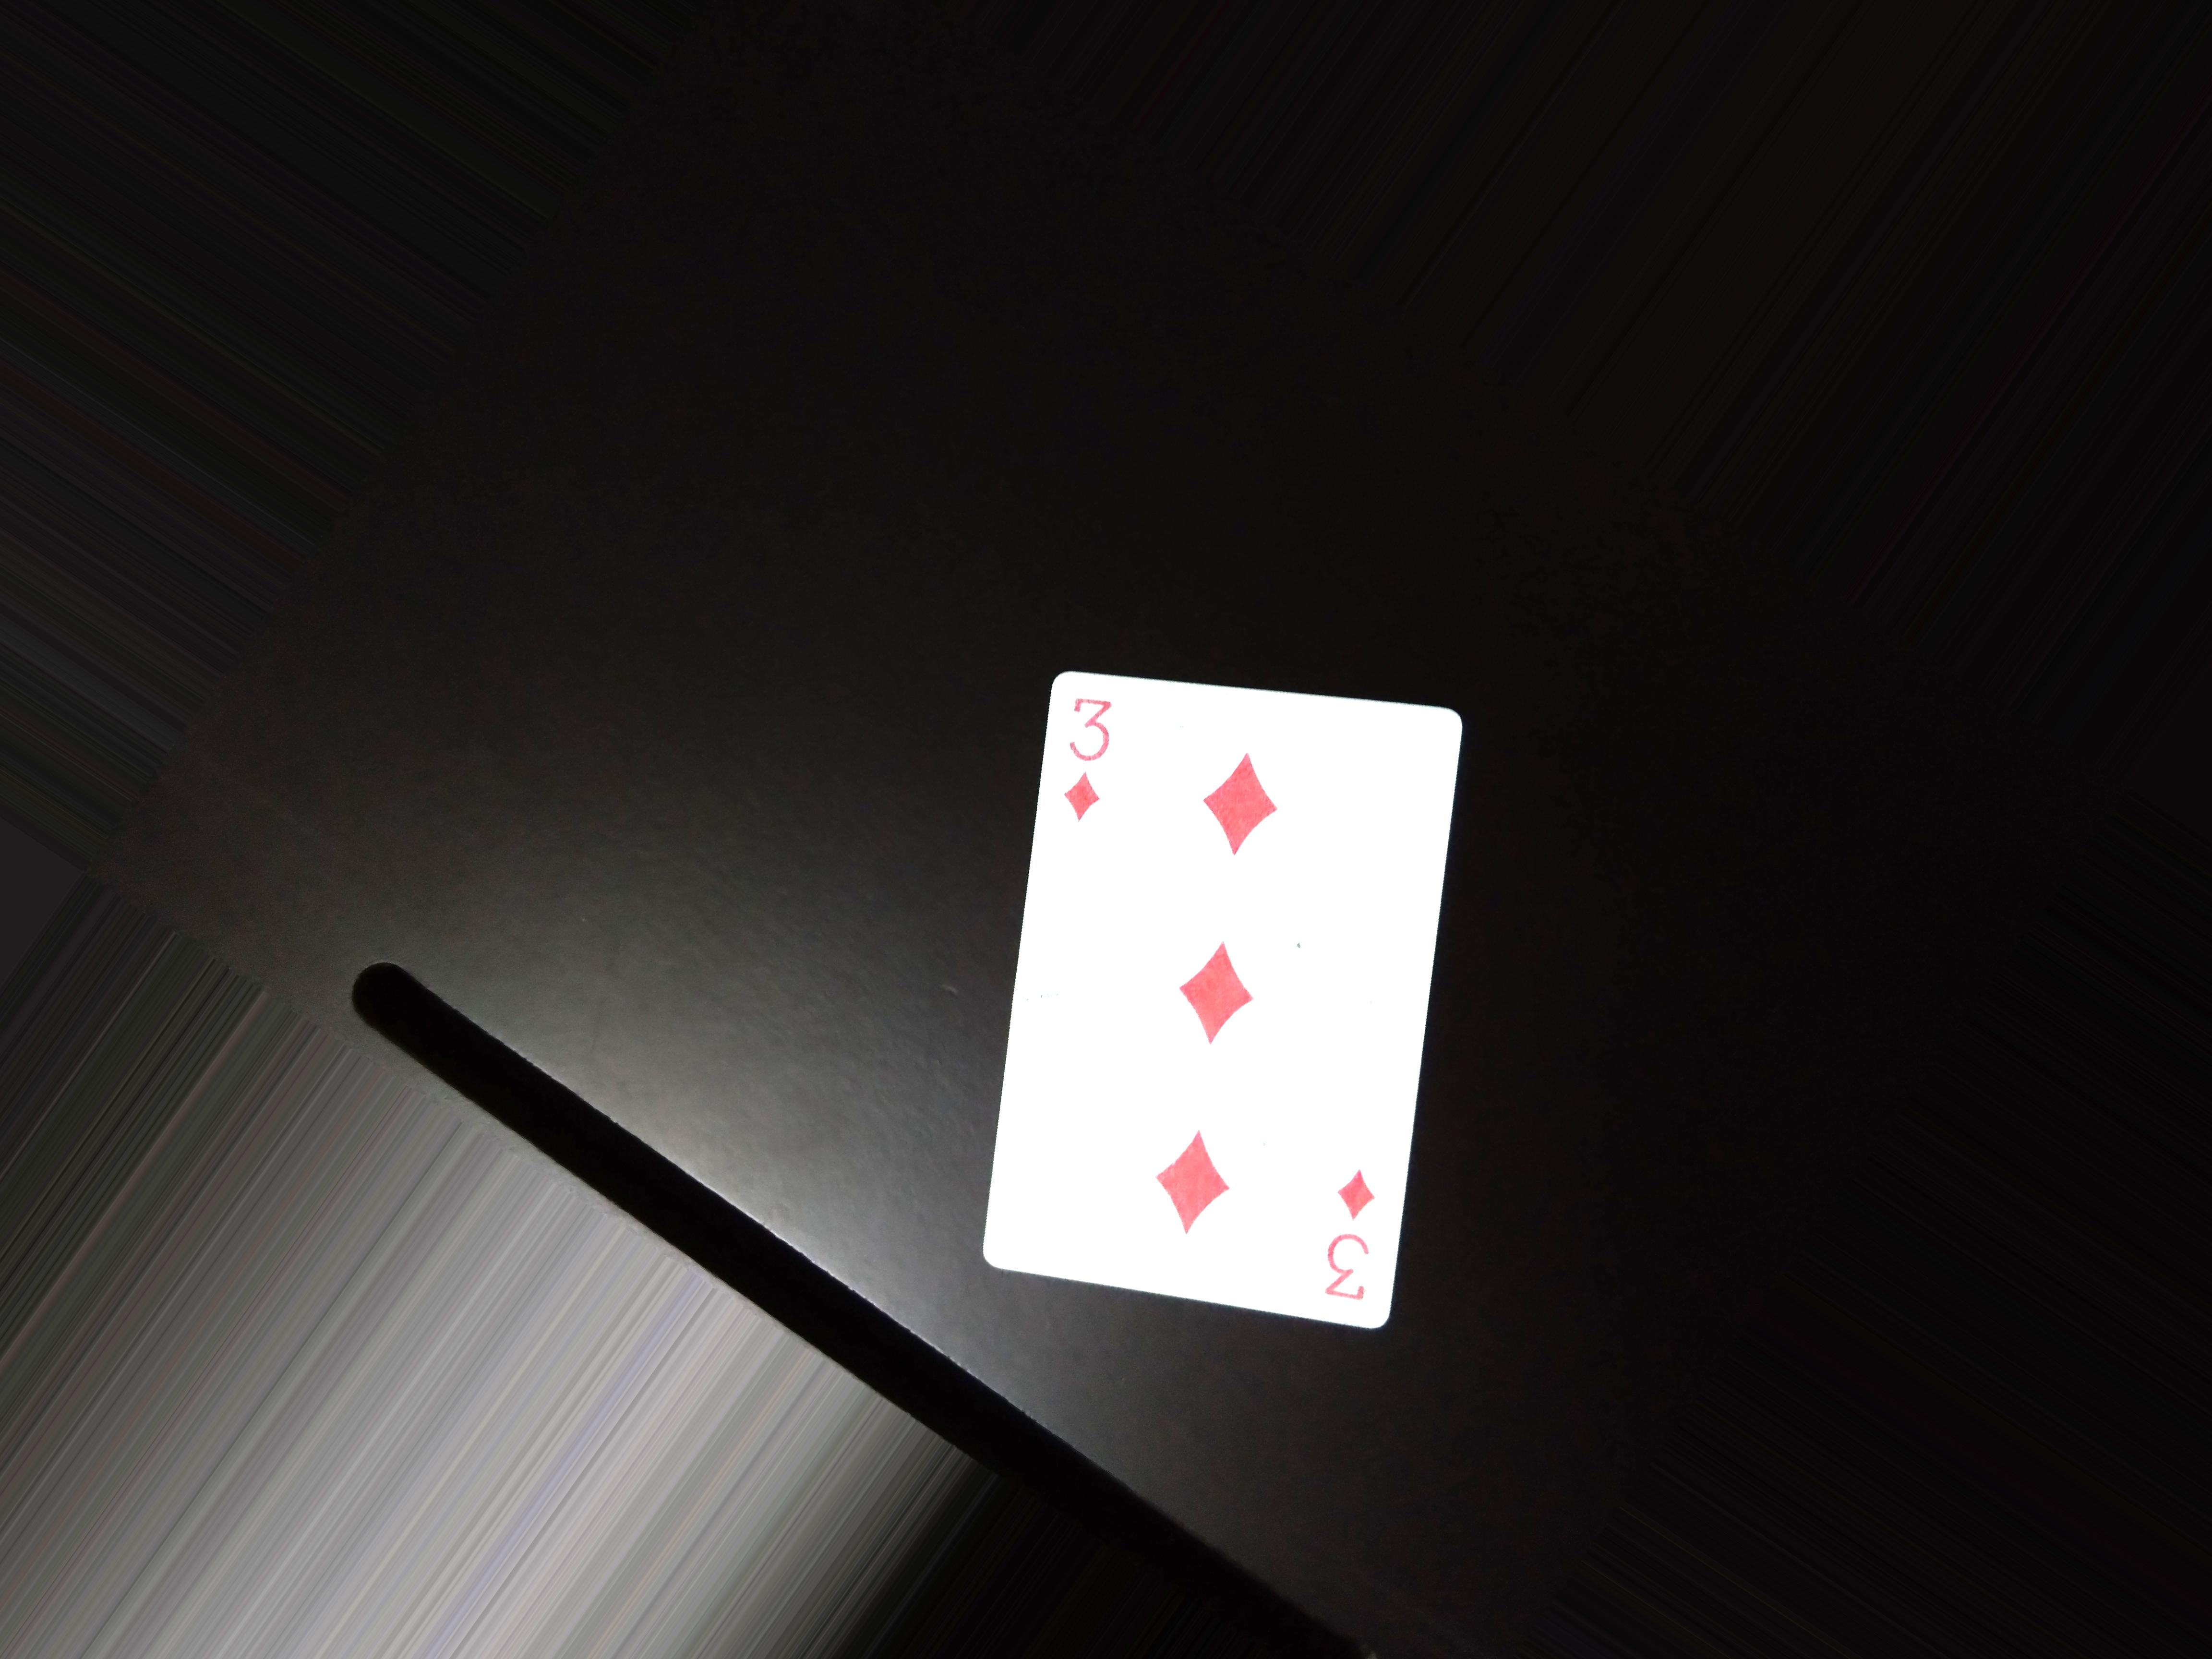3D: (1310, 1159, 1386, 1302)
